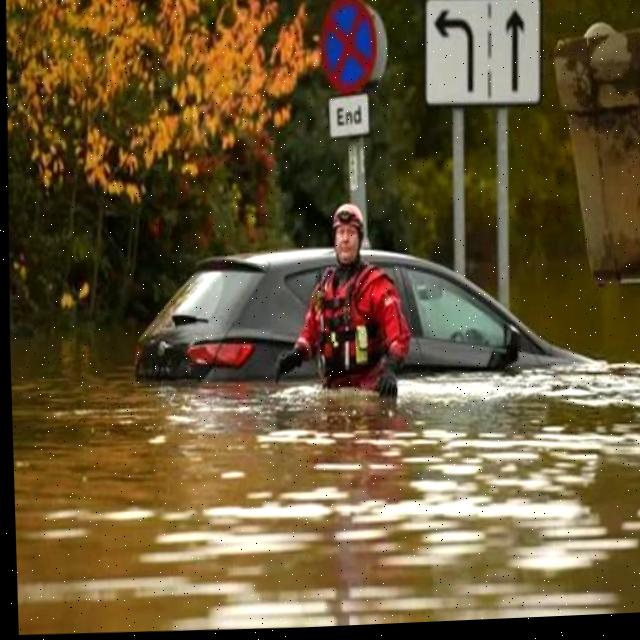rescuer: (263, 177, 425, 427)
